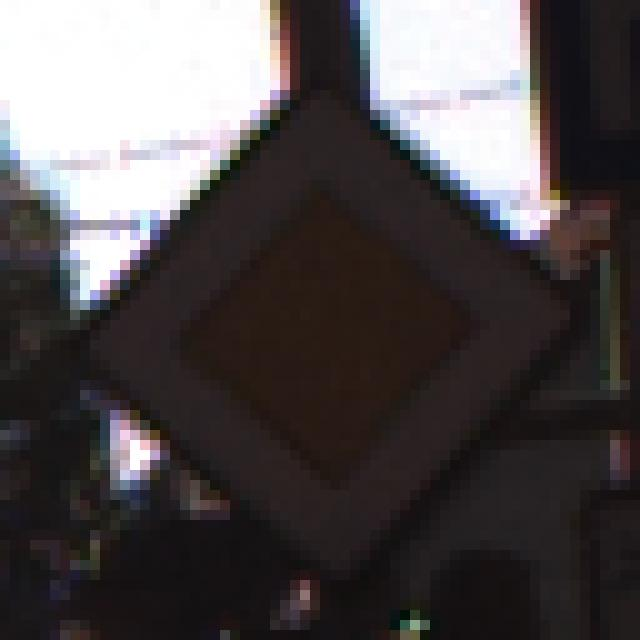Main Road: (61, 51, 591, 591)
